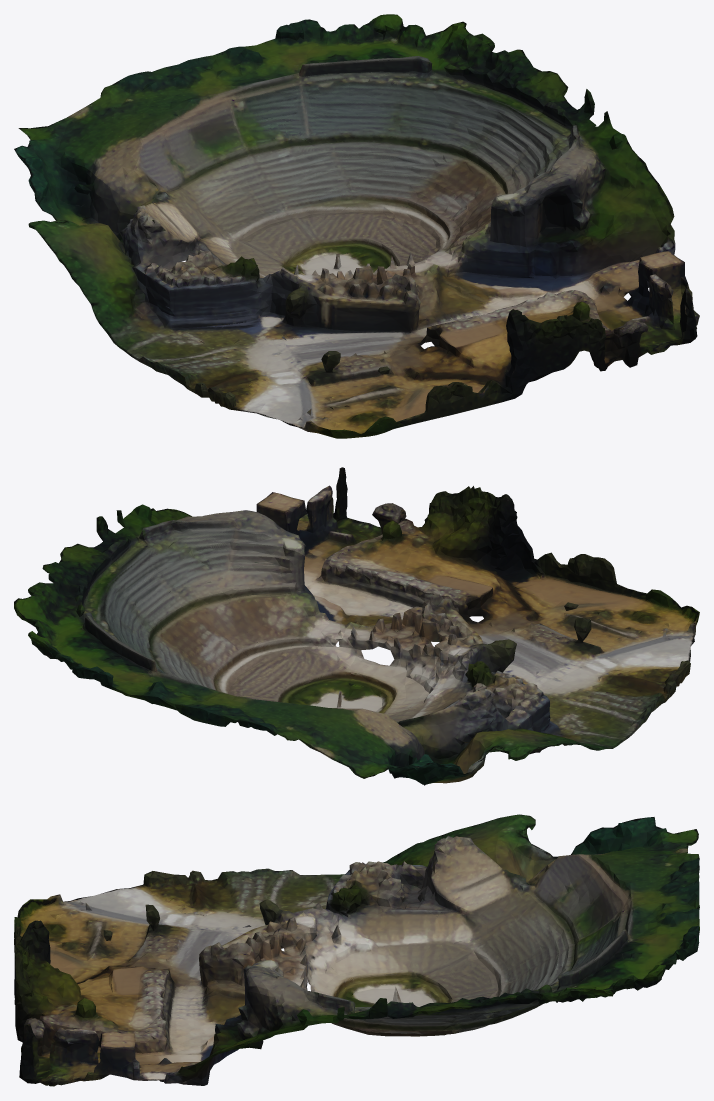
Rendered from ancient_theater_of_ephesus.fbx.
3 views of the same model, one above another, from view 1: azimuth 30°, elevation 25°; view 2: azimuth 150°, elevation 25°; view 3: azimuth 270°, elevation 25° (orthographic). The views are drawn at different scales.
Parts seen in each view (by area): view 1: world; view 2: world; view 3: world.
Boxes of the visible parts, x1,y1,x2,y2 form: world: (14,14,699,438); world: (14,467,699,785); world: (14,814,699,1086).
Bounding box in the file's own units: 87.68 × 21.5 × 100.
Materials: 1 (1 with a texture image).
